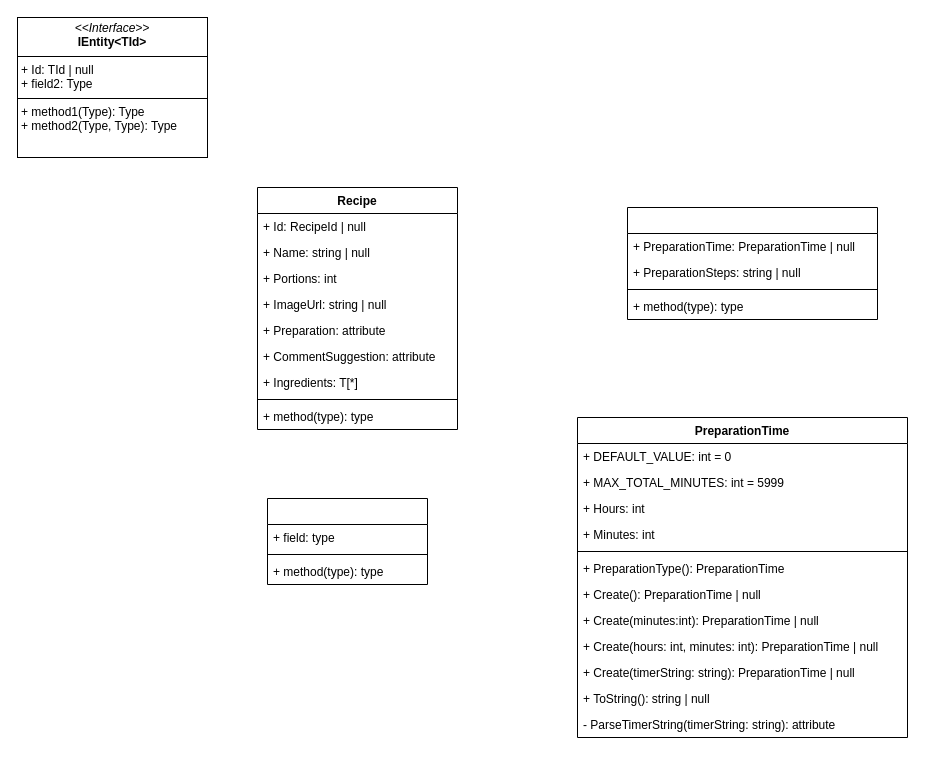
The diagram is 925 pixels wide and 758 high, and some of its shapes have lost their labels. The box of each missing label's shape, as (x1, y1, x2, y2) in pixels:
Classname: (266, 498, 428, 584)
PreparationInfo: (626, 206, 878, 320)
